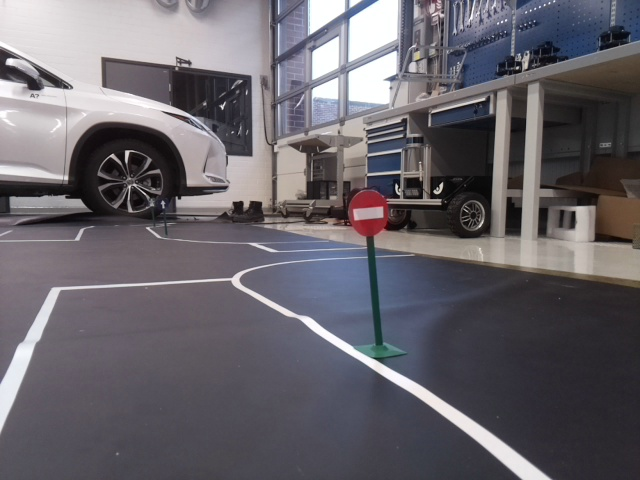NoEntry: (347, 190, 385, 238)
OneWay: (158, 198, 167, 209)
